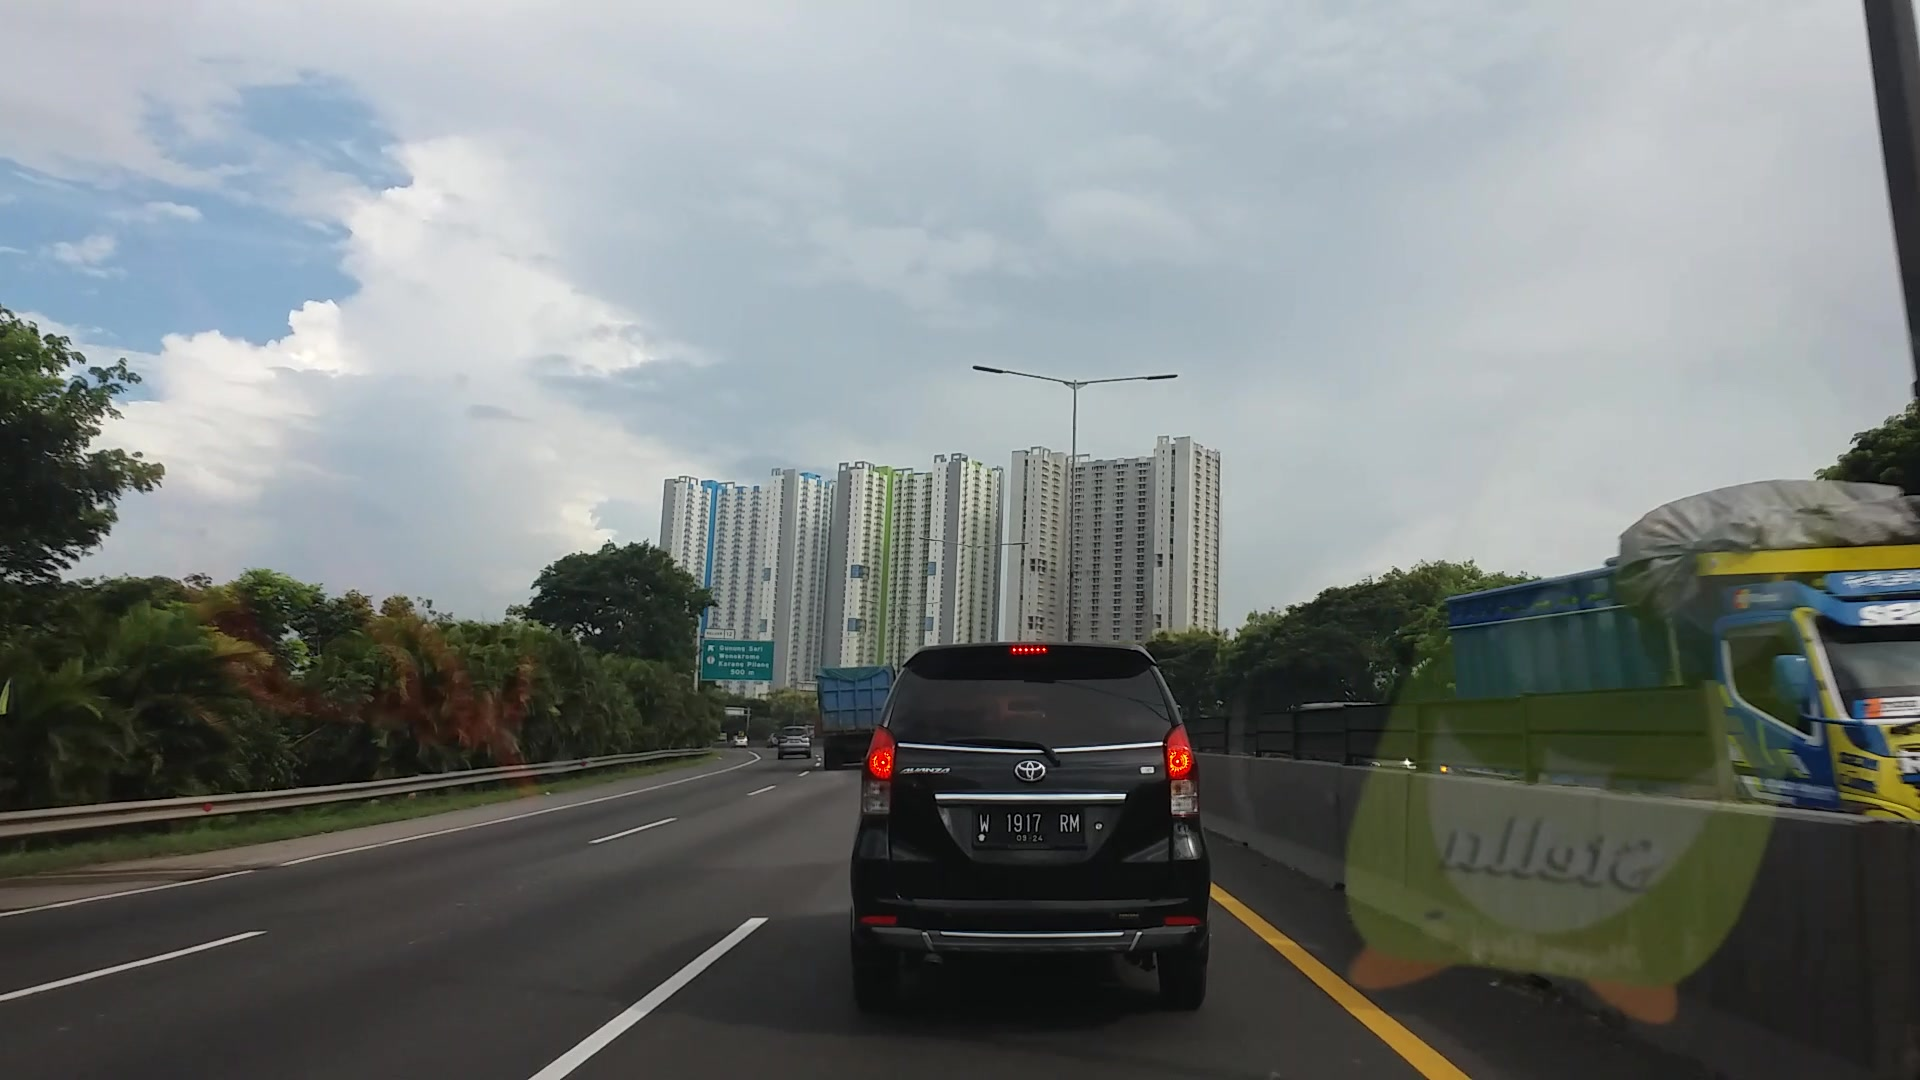plate_positive: (976, 806, 1085, 845)
